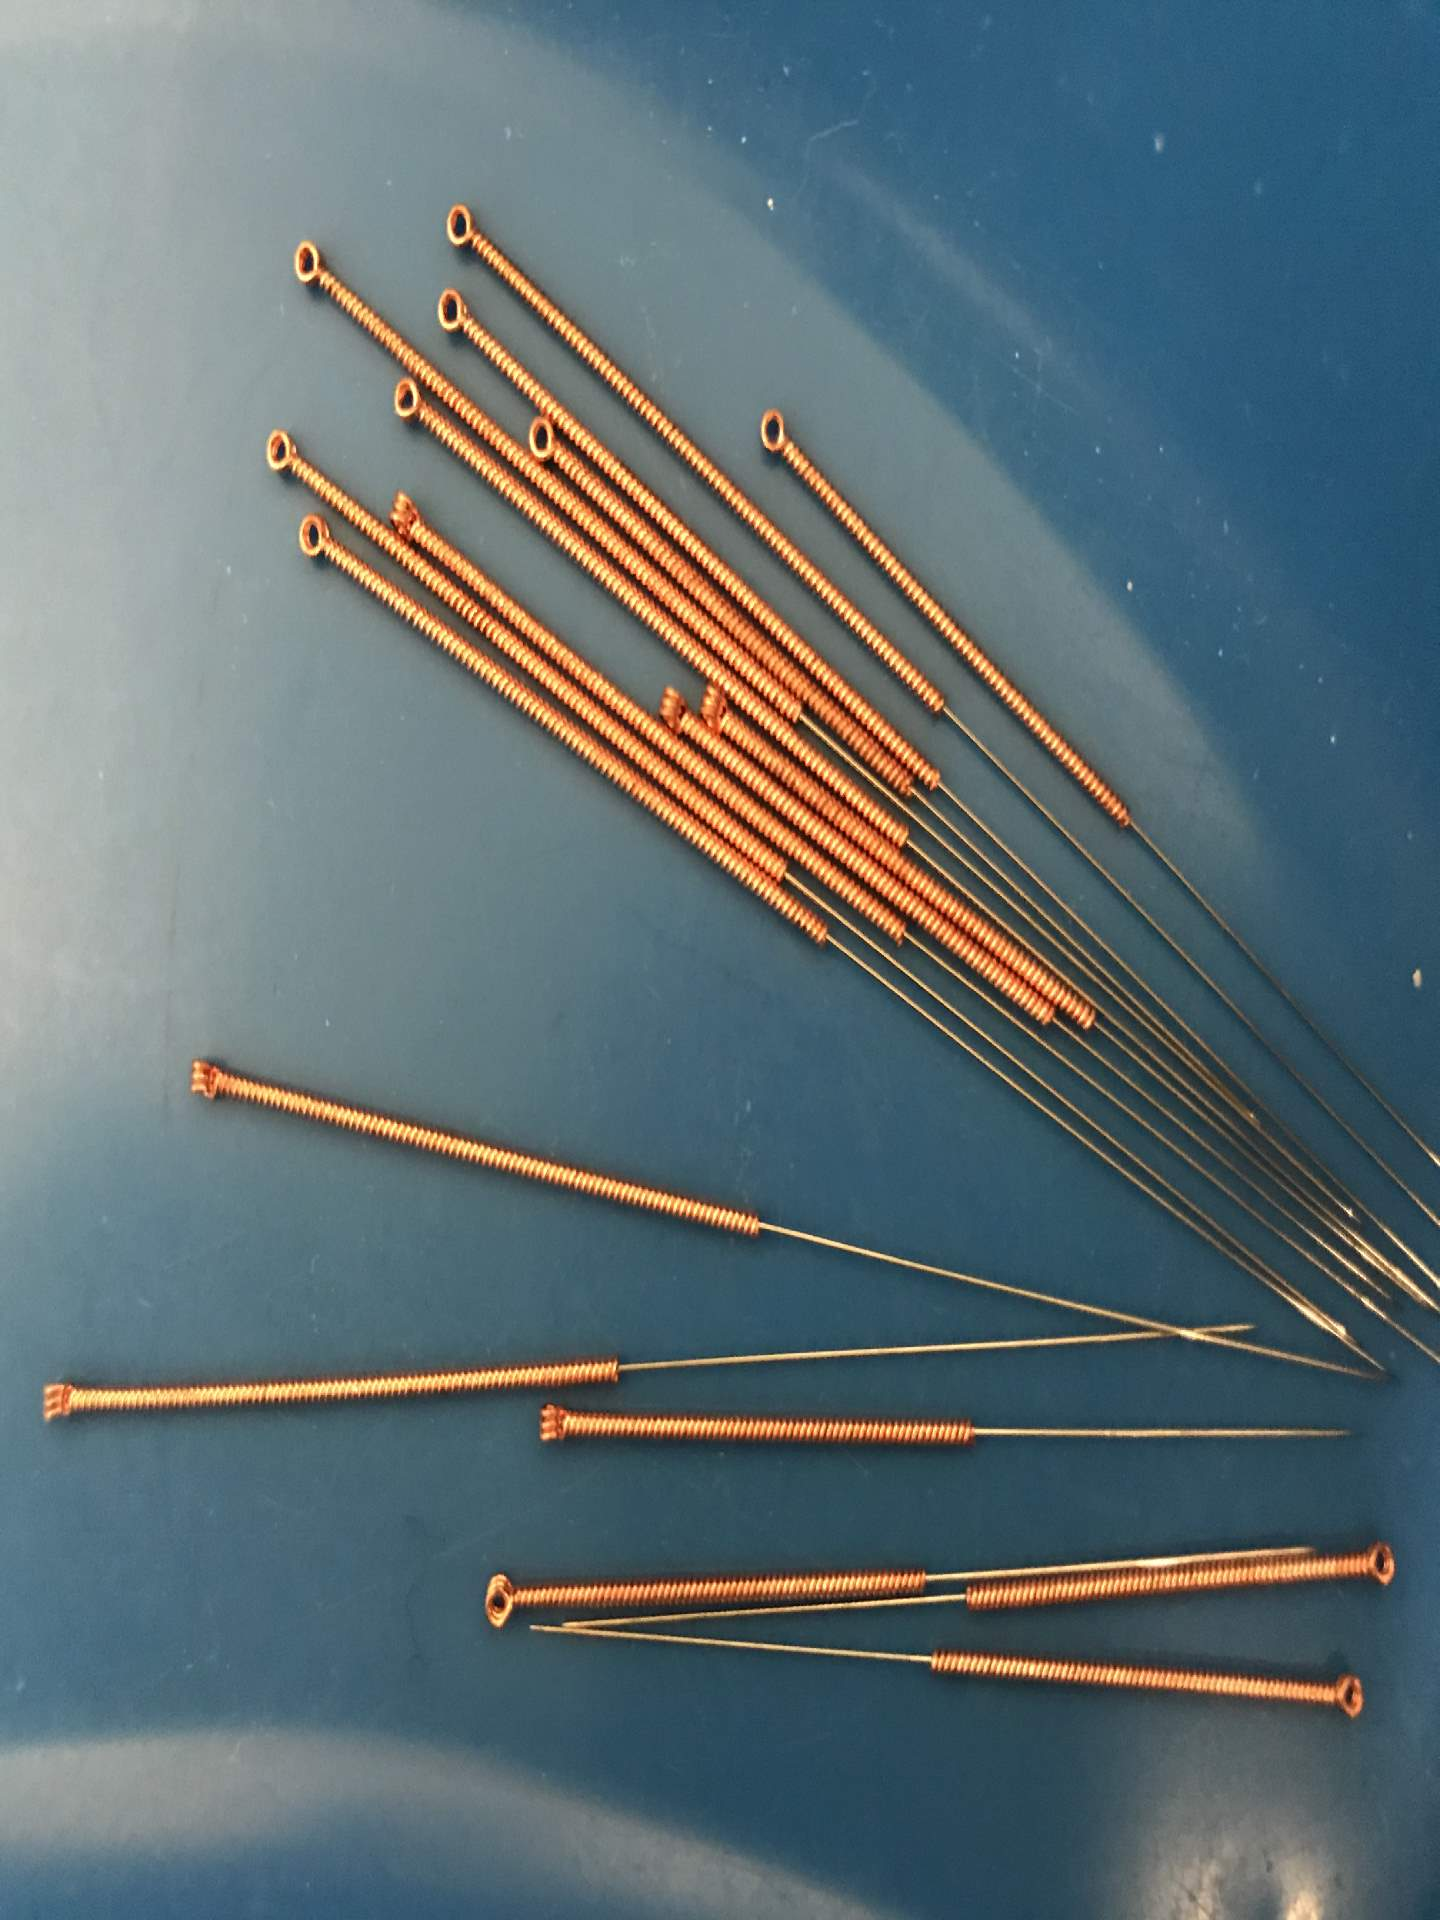needle: (165, 1037, 241, 1123), (464, 1560, 537, 1639), (424, 187, 498, 263), (513, 1392, 587, 1466), (740, 398, 812, 473), (23, 1367, 94, 1442), (280, 224, 345, 304), (248, 416, 315, 491), (421, 277, 487, 352), (1311, 1658, 1376, 1731), (1343, 1527, 1407, 1599), (281, 505, 342, 574), (377, 369, 436, 435), (378, 479, 431, 544), (690, 676, 740, 736), (517, 407, 566, 469), (652, 677, 697, 736)
